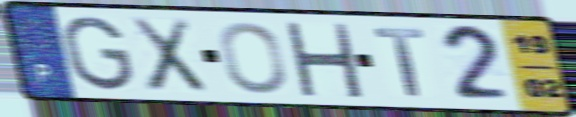2: (436, 22, 521, 106)
G: (60, 14, 137, 93)
H: (281, 19, 365, 100)
O: (217, 20, 290, 96)
T: (370, 26, 428, 99)
X: (126, 16, 210, 95)
